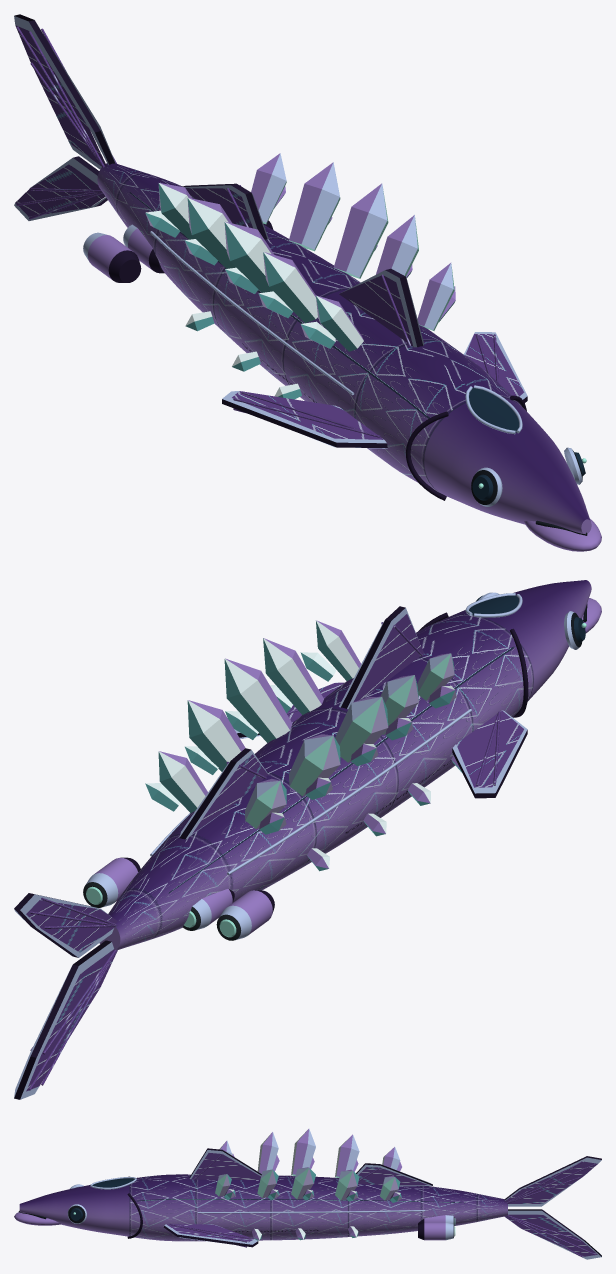
The picture shows the model from 3 angles, top to bottom: view 1: azimuth 30°, elevation 25°; view 2: azimuth 150°, elevation 25°; view 3: azimuth 270°, elevation 25°; orthographic projection. The views are drawn at different scales.
Visible parts, largest first — view 1: barracuda_hull; view 2: barracuda_hull; view 3: barracuda_hull.
Boxes of the visible parts, bbox=[...] form: barracuda_hull: bbox=[14, 14, 601, 551]; barracuda_hull: bbox=[14, 580, 601, 1099]; barracuda_hull: bbox=[14, 1128, 601, 1259].
Bounding box in the file's own units: 17.8 × 13.5 × 64.8.
Materials: 1 (1 with a texture image).
